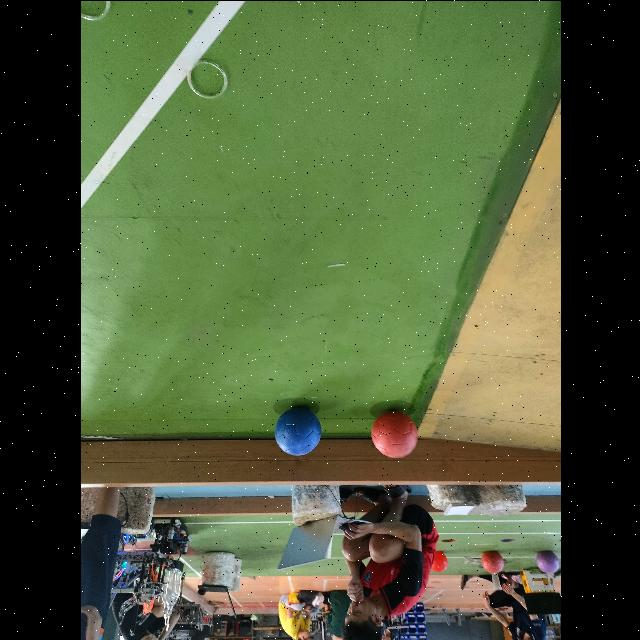B: (273, 406, 320, 455)
R: (371, 410, 416, 458)
